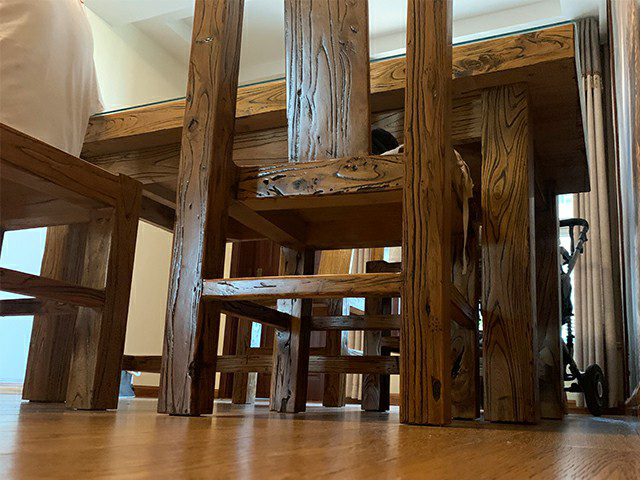curtain: (571, 15, 622, 412)
stool: (157, 1, 480, 425), (1, 121, 146, 413)
table: (21, 23, 592, 424)
